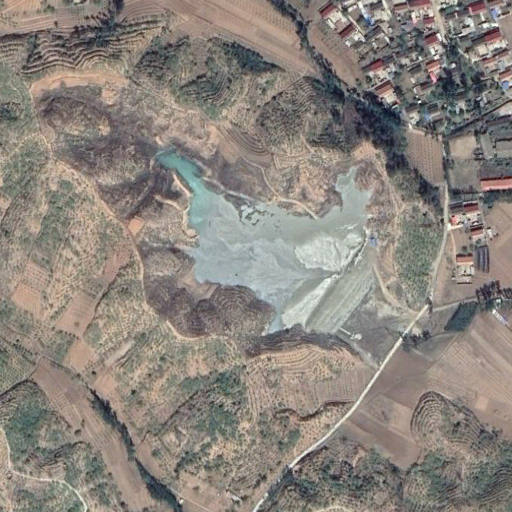tp: (162, 153, 379, 344)
